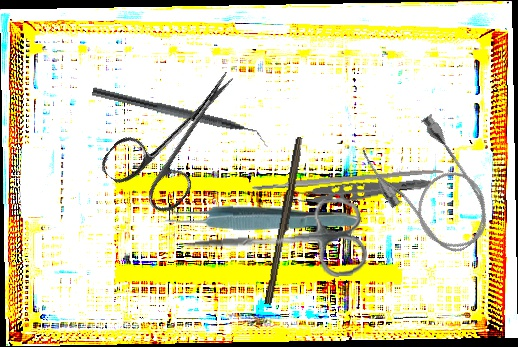Cannula: (355, 106, 506, 270)
Chopper: (88, 86, 273, 150)
Iris Scissors: (96, 46, 263, 222), (178, 196, 369, 288)
Scalpel Handle: (264, 136, 306, 306), (251, 166, 444, 192)
Tissue Forceps: (288, 166, 432, 210), (164, 203, 359, 233)
